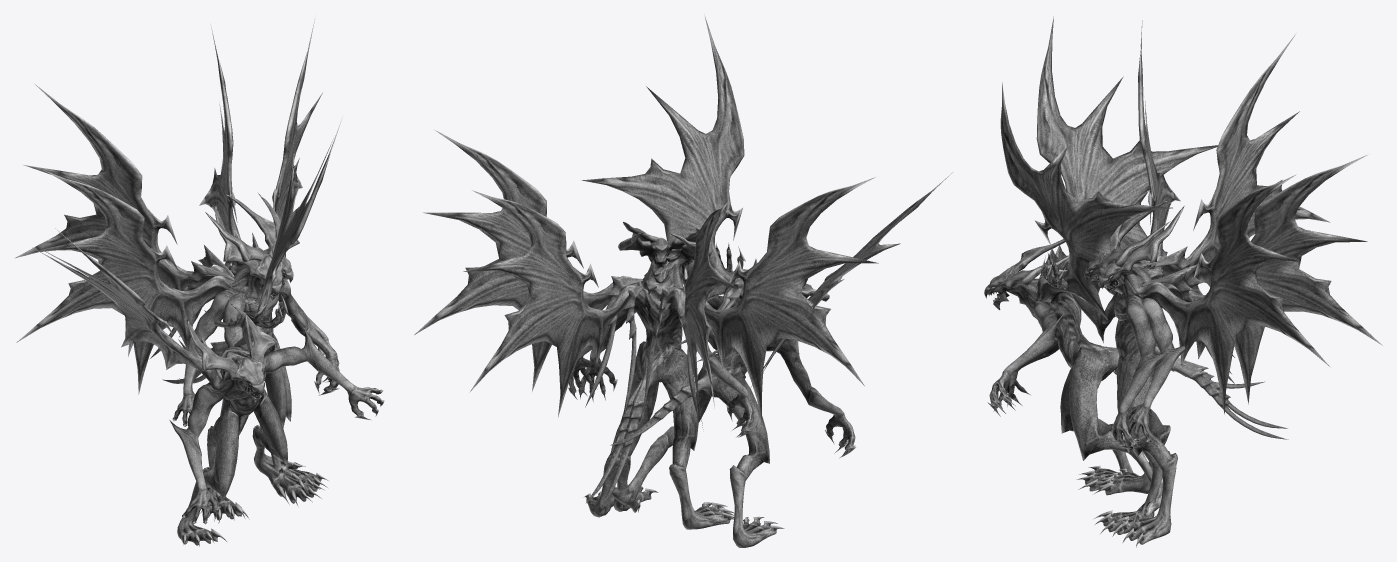
The model's file is gagoc.fbx.
3 views of the same model, side by side, from view 1: azimuth 30°, elevation 25°; view 2: azimuth 150°, elevation 25°; view 3: azimuth 270°, elevation 25° (orthographic). The views are drawn at different scales.
Visible parts, largest first — view 1: c2, c1, c0; view 2: c1, c2, c0; view 3: c2, c0, c1.
Part boxes in pixels (<box>): c2: <box>32,118,384,546</box>; c1: <box>16,24,339,518</box>; c0: <box>15,18,339,523</box>; c1: <box>463,177,878,529</box>; c2: <box>581,17,952,547</box>; c0: <box>414,130,754,529</box>; c2: <box>984,16,1265,522</box>; c0: <box>1084,34,1329,536</box>; c1: <box>1039,20,1382,547</box>.
Bounding box in the file's own units: 581 × 628 × 497.
